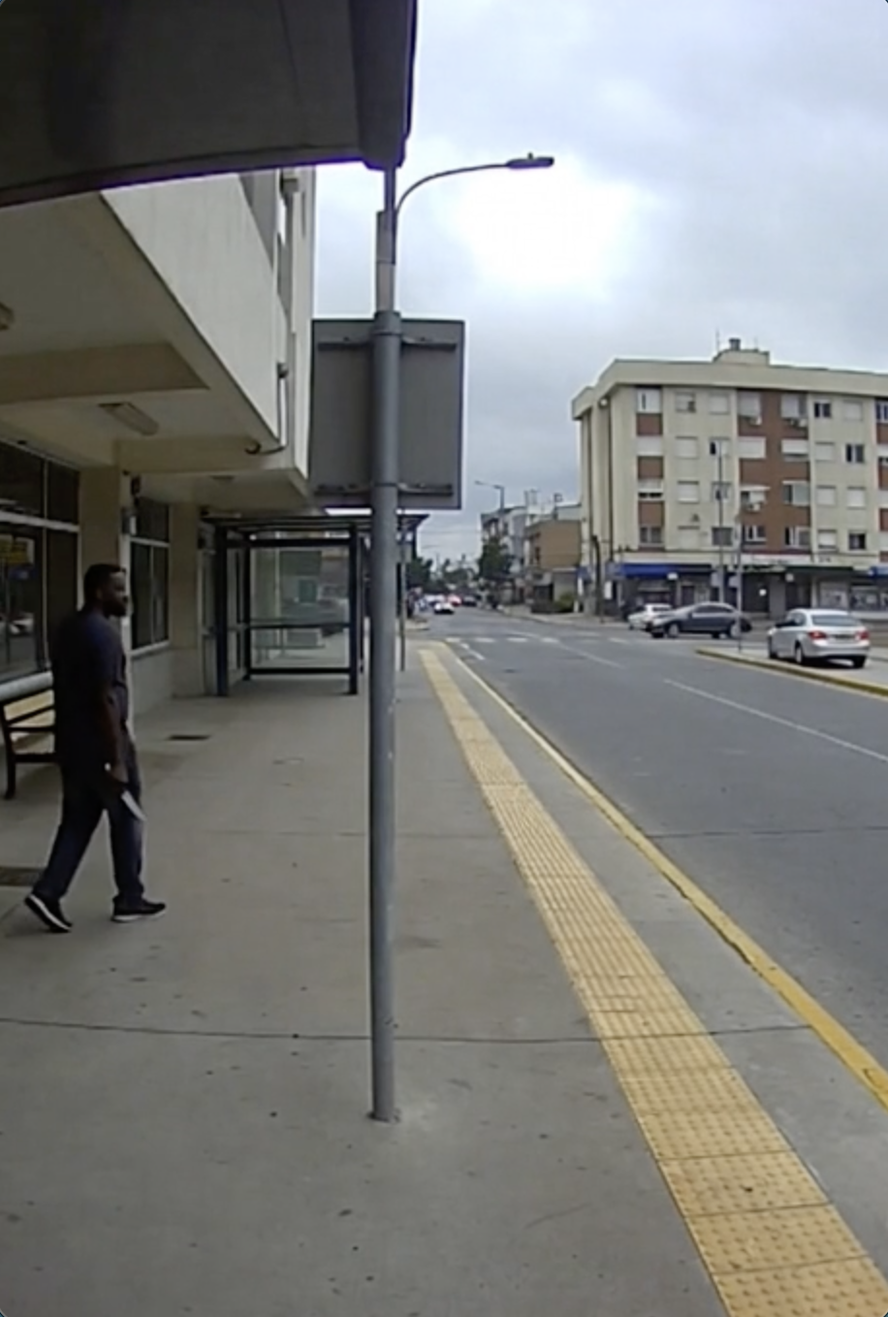Heavy Gun: (20, 560, 172, 945)
Knife: (96, 757, 148, 824)
